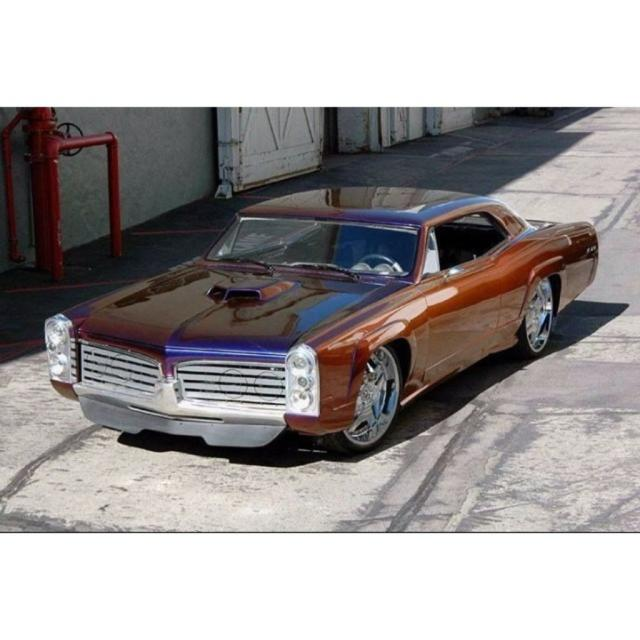car: (36, 175, 610, 466)
